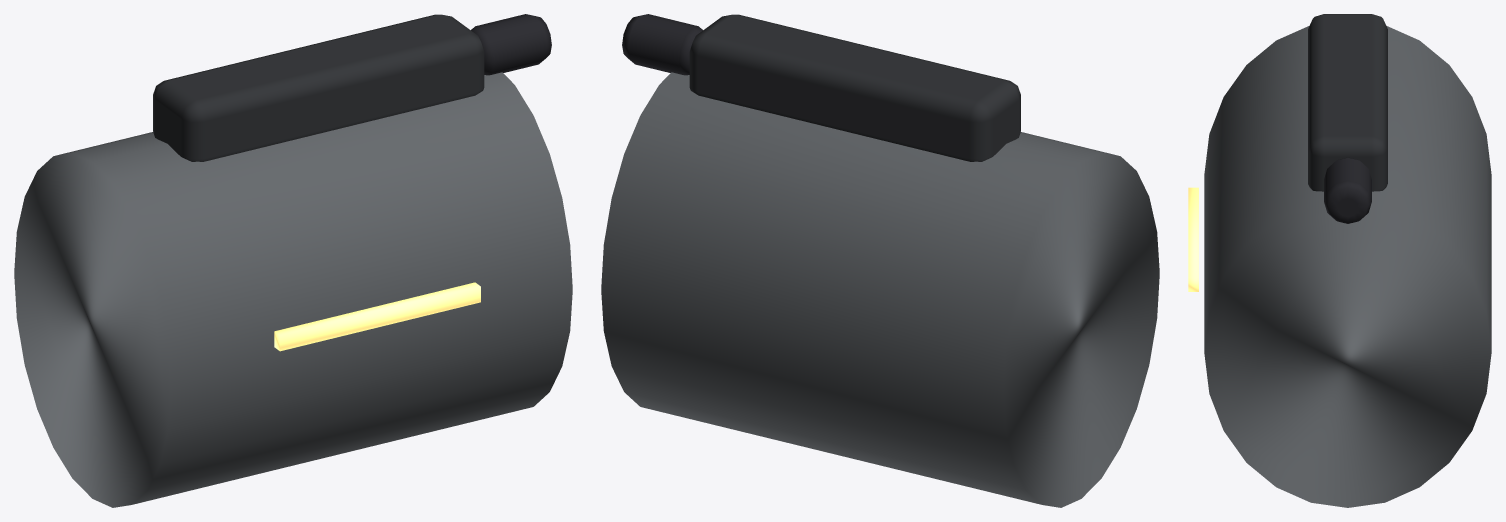
Rendered from agent_bracer.glb.
The picture shows the model from 3 angles, left to right: view 1: azimuth 30°, elevation 25°; view 2: azimuth 150°, elevation 25°; view 3: azimuth 270°, elevation 25°; orthographic projection. The views are drawn at different scales.
Parts seen in each view (by area): view 1: Bracer, Launcher, BracerLight, Nozzle; view 2: Bracer, Launcher, Nozzle; view 3: Bracer, Launcher, Nozzle, BracerLight.
Part boxes in pixels (x1,y1,x2,y2): Bracer: [14, 72, 572, 507]; Launcher: [153, 14, 484, 161]; BracerLight: [274, 282, 480, 351]; Nozzle: [471, 14, 551, 75]; Bracer: [601, 72, 1159, 507]; Launcher: [689, 14, 1020, 161]; Nozzle: [622, 14, 702, 75]; Bracer: [1204, 26, 1491, 507]; Launcher: [1308, 14, 1387, 191]; Nozzle: [1324, 157, 1371, 223]; BracerLight: [1188, 187, 1198, 291].
Size of the model in its own units: 0.18 by 0.147 by 0.114.
